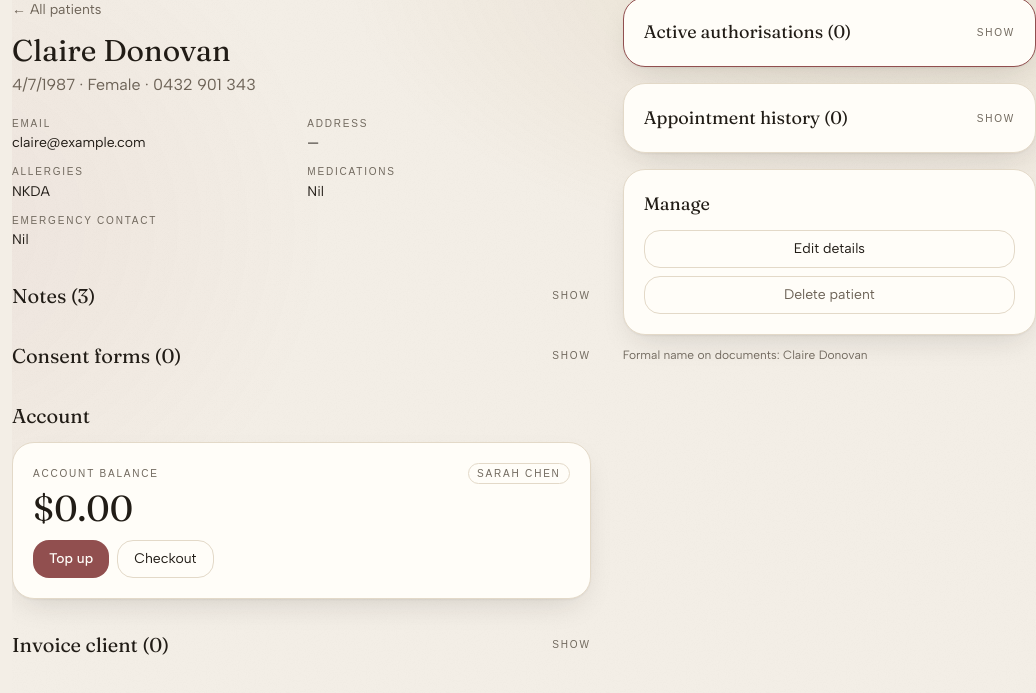
Test: patient file — same-day note amendment › finalizes yesterday's note — no Edit button, no window hint
The image size is (1036, 693).
Click the button "Notes (3) Show" at coordinates (45, 295), box top-left (12, 282), bottom-right (591, 310)
(page scrolled)
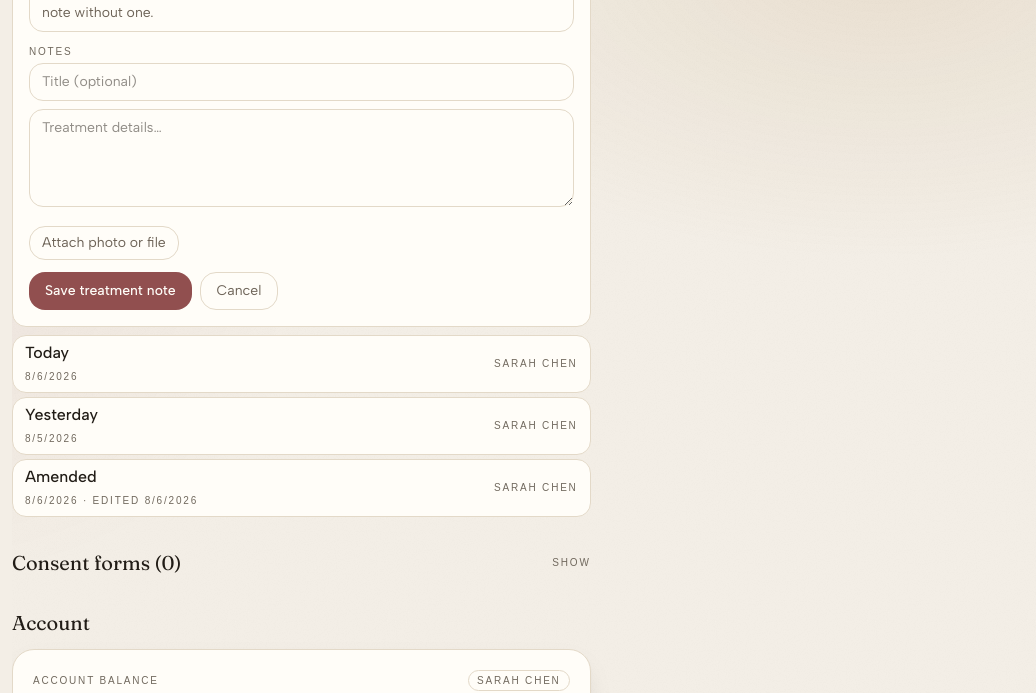
Click the button "Yesterday 8/5/2026 Sarah Chen" at coordinates (61, 414), box top-left (25, 404), bottom-right (578, 448)
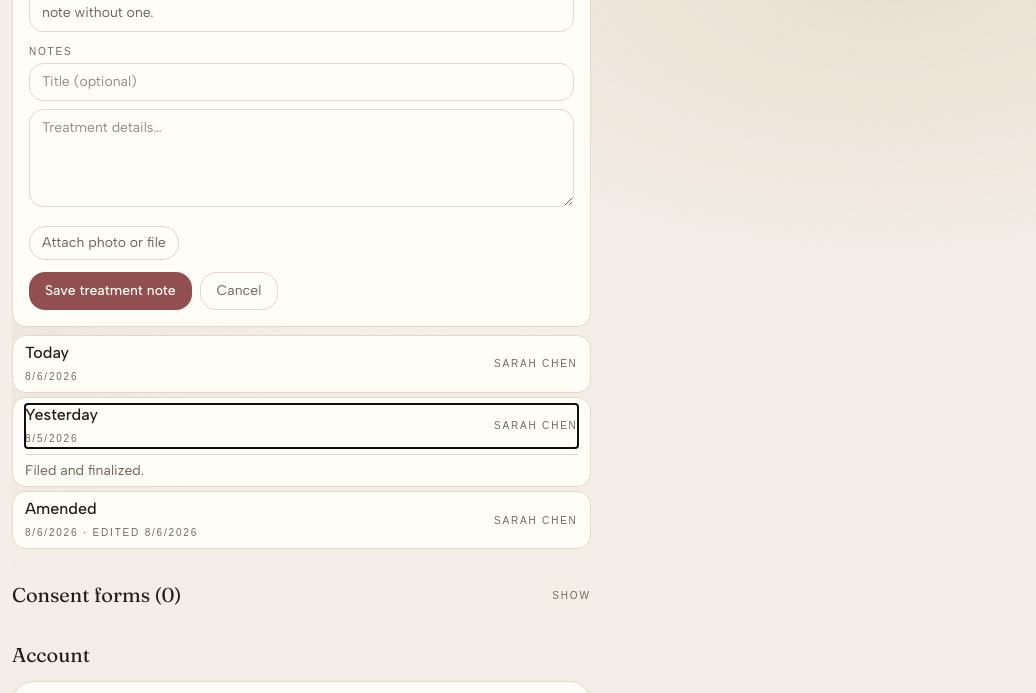
Check: the text "Filed and finalized." is shown, box top-left (25, 462), bottom-right (144, 479)
